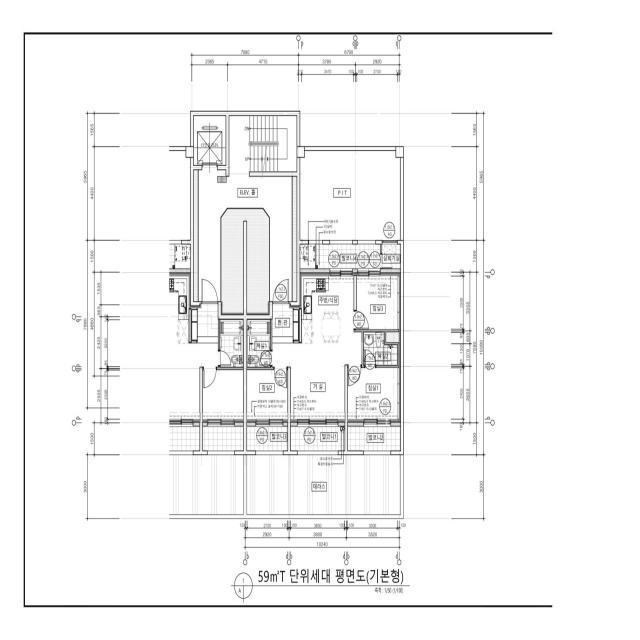space_balconi: (316, 244, 380, 269), (291, 426, 345, 451), (348, 426, 400, 451), (247, 426, 288, 451)
space_bedroom: (348, 367, 400, 422), (357, 273, 400, 330), (247, 370, 288, 422)
space_elevator: (194, 116, 226, 165)
space_elevator_hall: (198, 170, 292, 302)
space_front: (272, 304, 299, 343)
space_kitchen: (300, 273, 354, 344)
space_living_room: (272, 332, 362, 422)
space_other: (300, 151, 400, 240), (221, 209, 269, 315), (194, 170, 198, 302), (293, 176, 297, 301), (300, 244, 315, 269), (386, 332, 401, 342)
space_outdoor_room: (382, 244, 400, 269)
space_staircase: (229, 116, 297, 171)
space_toilet: (363, 332, 397, 365), (247, 319, 270, 367)
